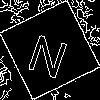N: (25, 25, 74, 80)
